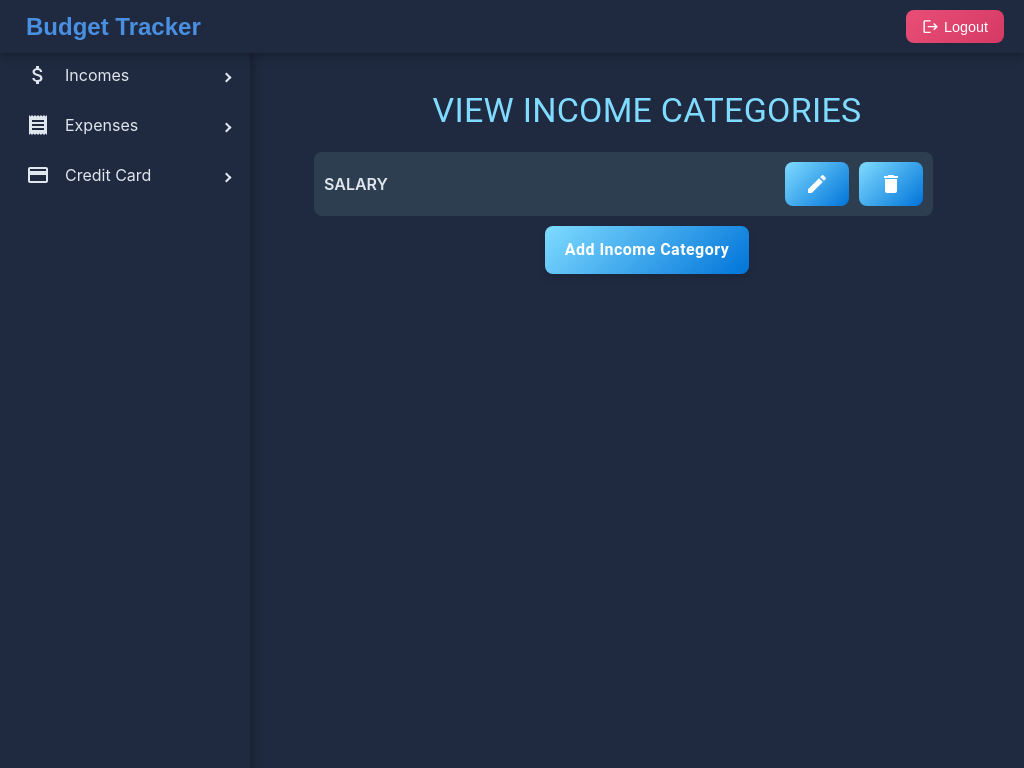
Test: ViewIncomeCategory View › handles deleting a category
Expected: the text "Salary" is shown, [324,174,388,194]
// Click delete
What coordinates should you click on to do the following:
click the button with test id "DeleteIcon"
I would click on:
 (891, 184)
Its box is [859,162,923,206].
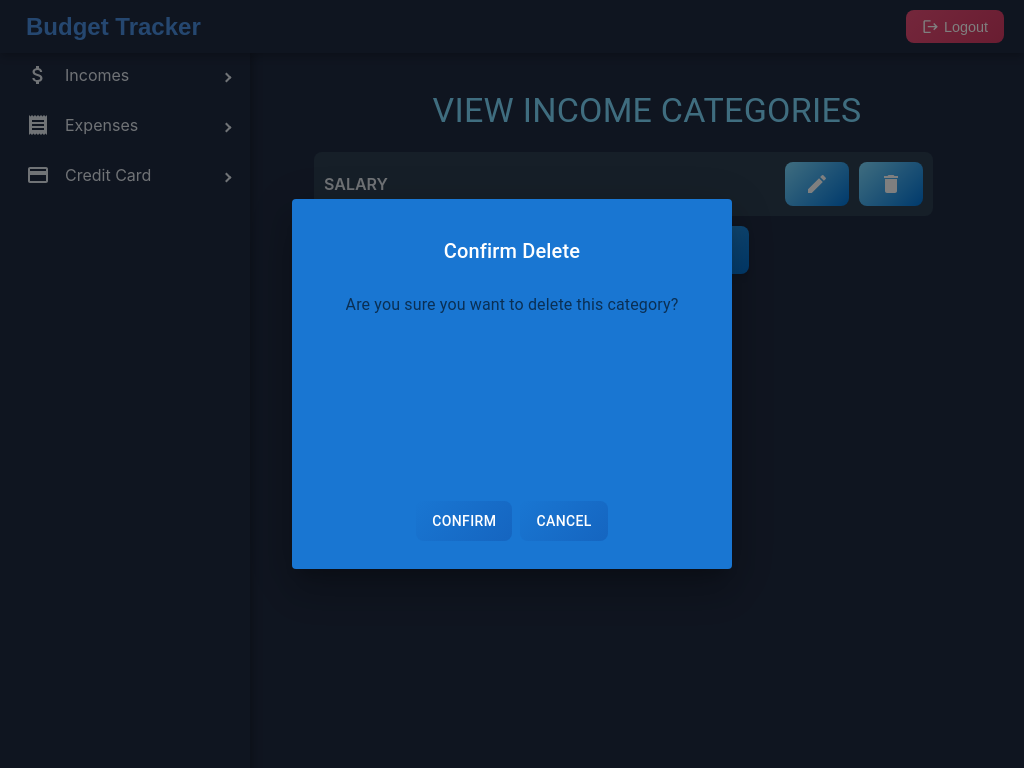
// Confirm deletion in the dialog
What coordinates should you click on to do the following:
click the button "Confirm"
I would click on:
 (464, 521)
Its box is [416,501,512,541].
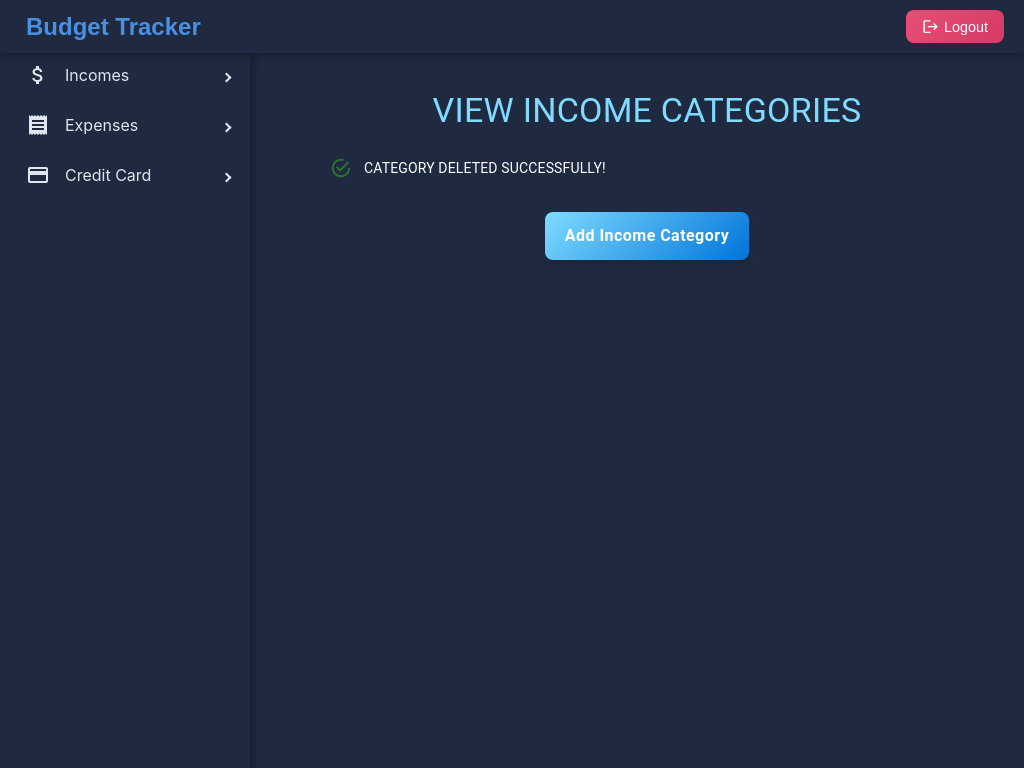
Expected: the text "Salary" is gone
